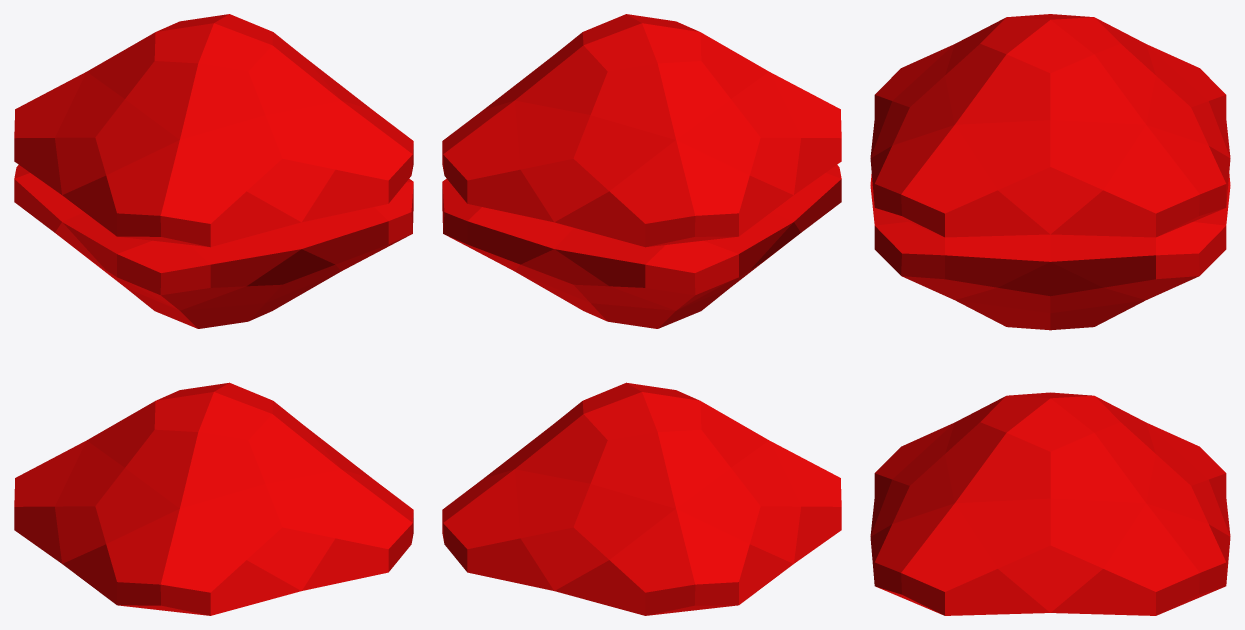
Rendered from caballoRedondo001.fbx.
3 views of the same model, side by side, from view 1: azimuth 30°, elevation 25°; view 2: azimuth 150°, elevation 25°; view 3: azimuth 270°, elevation 25° (orthographic). The views are drawn at different scales.
Visible parts, largest first — view 1: caballoRedondo; view 2: caballoRedondo; view 3: caballoRedondo.
Boxes of the visible parts, box(x1,y1,x2,y2) form: caballoRedondo: box(14, 14, 413, 615); caballoRedondo: box(442, 14, 841, 615); caballoRedondo: box(870, 14, 1230, 615).
Size of the model in its own units: 56.32 by 91.46 by 56.32.
